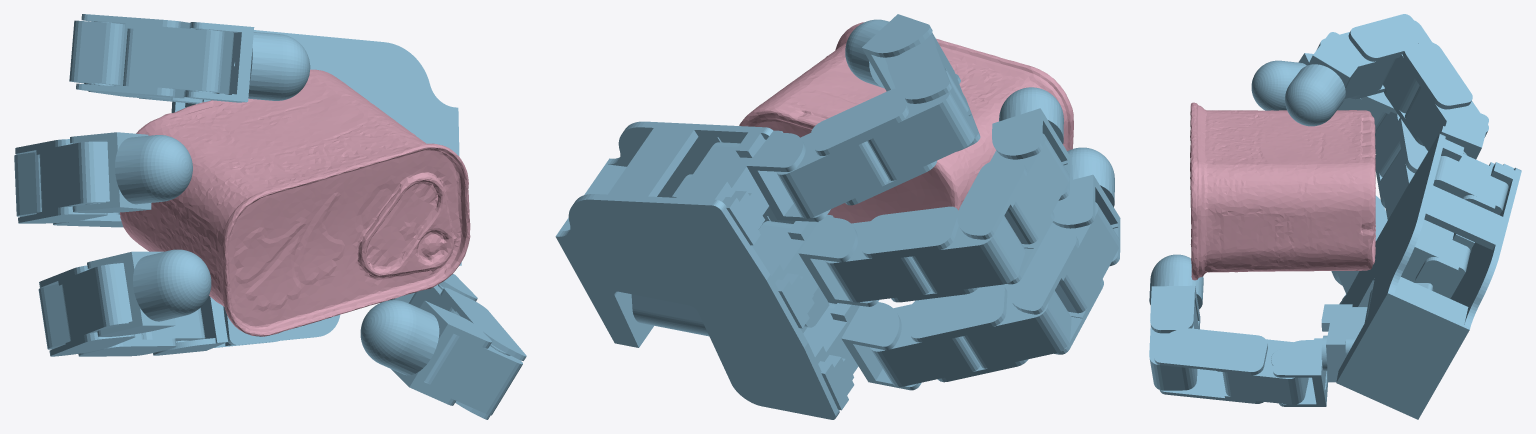
3 renders of one model, left to right at view 1: azimuth 30°, elevation 25°; view 2: azimuth 150°, elevation 25°; view 3: azimuth 270°, elevation 25°, orthographic. The views are drawn at different scales.
Parts seen in each view (by area): view 1: world; view 2: world; view 3: world.
Boxes of the visible parts, left/top/right/bottom form: world: left=14, top=14, right=526, bottom=419; world: left=555, top=14, right=1120, bottom=419; world: left=1149, top=14, right=1521, bottom=419.
Size of the model in its own units: 0.1849 by 0.1528 by 0.1674.
